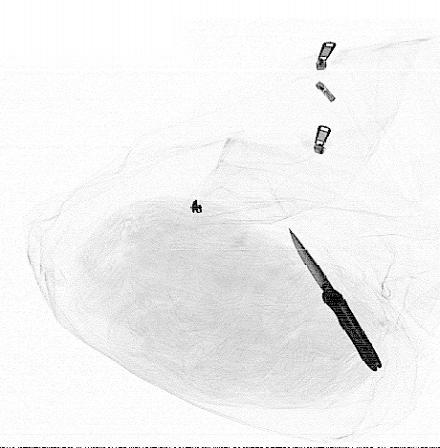Knife: (289, 224, 384, 374)
